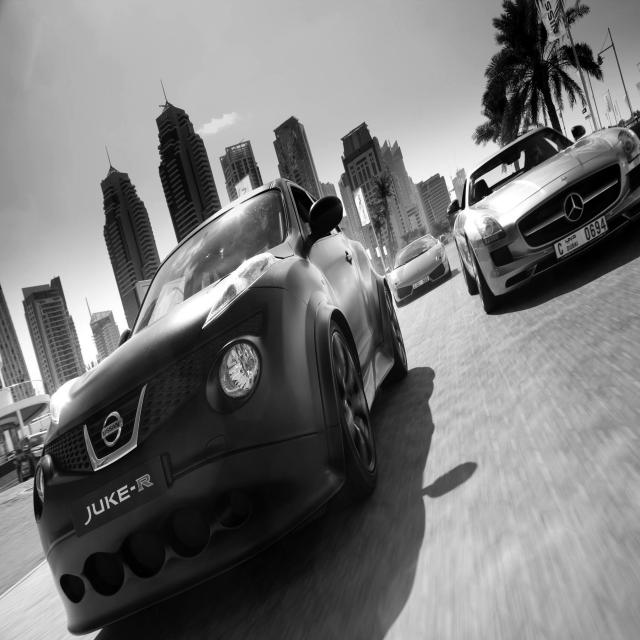car: (33, 177, 408, 635), (446, 124, 640, 314), (384, 232, 451, 304), (13, 430, 48, 483)
